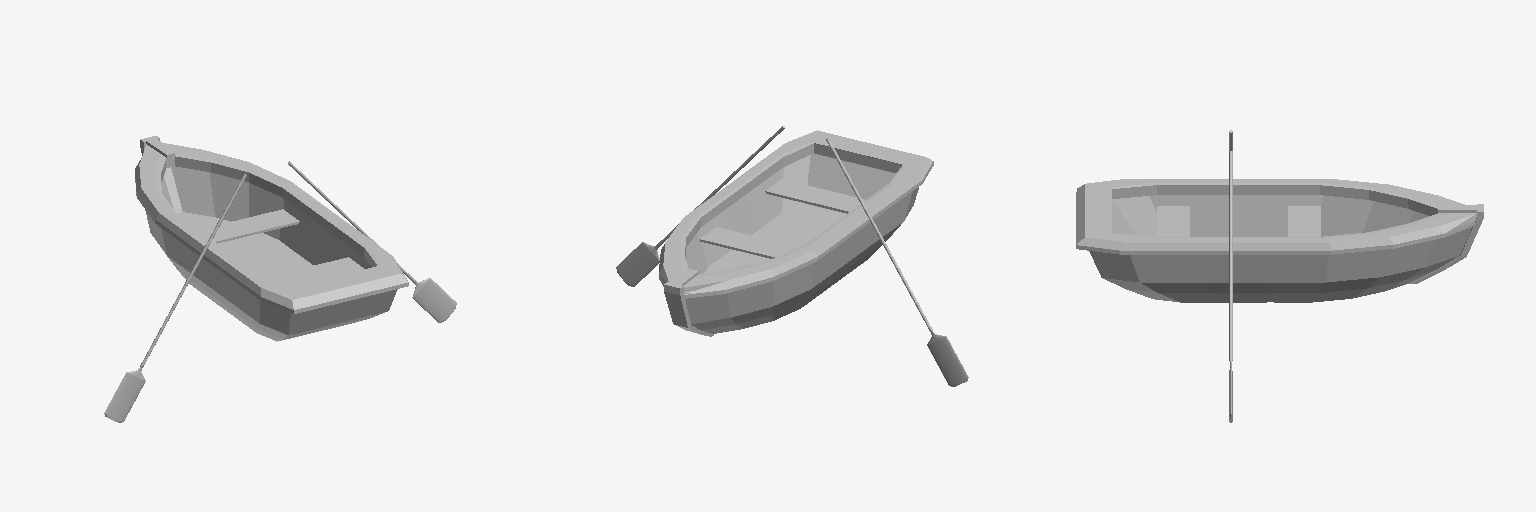
File: Boat and rafter_U1V1.obj
3 renders of one model, left to right at view 1: azimuth 30°, elevation 25°; view 2: azimuth 150°, elevation 25°; view 3: azimuth 270°, elevation 25°, orthographic.
Parts seen in each view (by area): view 1: group1 pCube6, group1 pCylinder1, pCylinder9 group1; view 2: group1 pCube6, group1 pCylinder1, pCylinder9 group1; view 3: group1 pCube6, pCylinder9 group1.
Part boxes in pixels (bbox=[...]): group1 pCube6: bbox=[135, 136, 408, 341]; group1 pCylinder1: bbox=[104, 174, 246, 422]; pCylinder9 group1: bbox=[288, 161, 456, 322]; group1 pCube6: bbox=[659, 130, 933, 336]; group1 pCylinder1: bbox=[826, 138, 968, 386]; pCylinder9 group1: bbox=[616, 126, 784, 286]; group1 pCube6: bbox=[1076, 179, 1483, 302]; pCylinder9 group1: bbox=[1229, 151, 1232, 422].
Size of the model in its own units: 9.53 by 5.68 by 9.53.